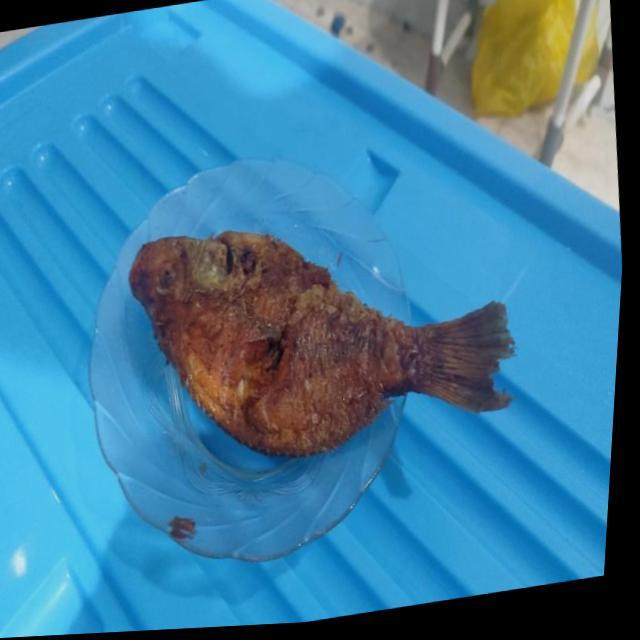ikan_mujair: (130, 230, 514, 457)
